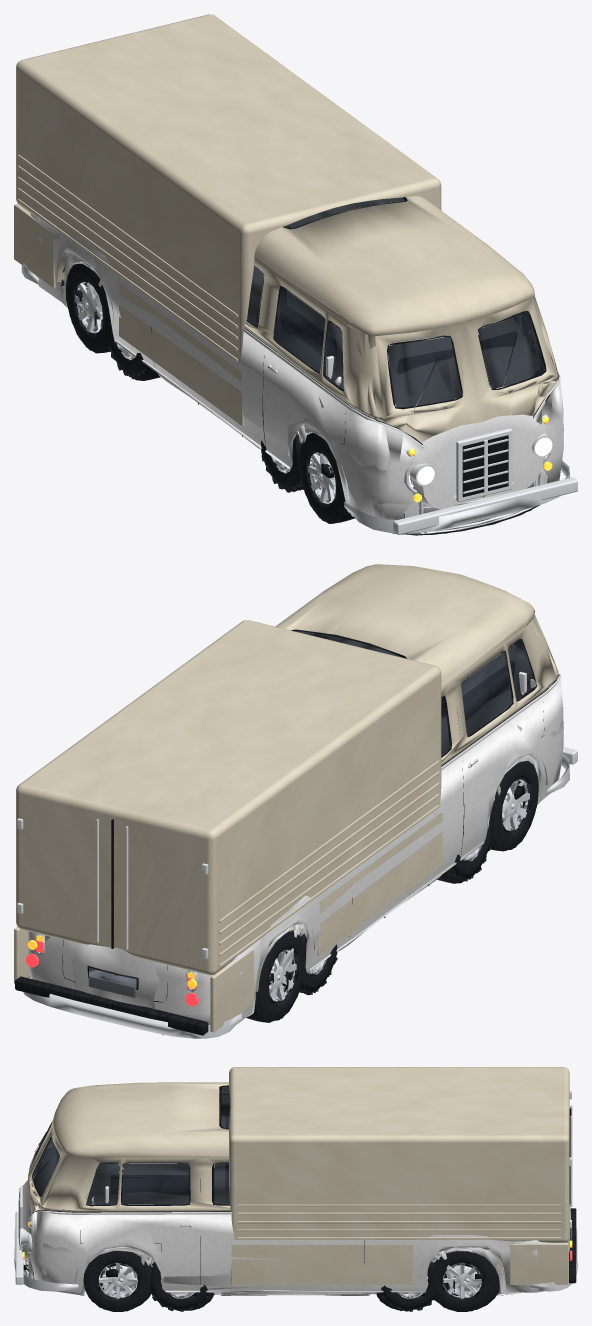
The model's file is vehicles_fleet_10models.glb.
3 views of the same model, one above another, from view 1: azimuth 30°, elevation 25°; view 2: azimuth 150°, elevation 25°; view 3: azimuth 270°, elevation 25° (orthographic). The views are drawn at different scales.
Parts seen in each view (by area): view 1: Chassis_Mesh.009, Chassis_Mesh.007, Wheel_FR (×2), Wheel_RR (×2), Chassis_Mesh.008; view 2: Chassis_Mesh.009, Chassis_Mesh.007, Wheel_RR (×3), Chassis_Mesh.008, Wheel_FR (×2); view 3: Chassis_Mesh.009, Chassis_Mesh.007, Wheel_FL (×3), Wheel_RL (×3), Chassis_Mesh.008, Chassis_Mesh.001, Chassis_Mesh.002.
Part boxes in pixels (x1,y1,x2,y2): Chassis_Mesh.009: [14, 14, 577, 534]; Chassis_Mesh.007: [21, 196, 569, 533]; Wheel_FR (×2): [261, 432, 354, 523]; Wheel_RR (×2): [66, 263, 145, 379]; Chassis_Mesh.008: [61, 252, 548, 535]; Chassis_Mesh.009: [14, 620, 577, 1035]; Chassis_Mesh.007: [23, 564, 569, 1038]; Wheel_RR (×3): [246, 931, 338, 1022]; Chassis_Mesh.008: [71, 755, 538, 1016]; Wheel_FR (×2): [452, 761, 538, 881]; Chassis_Mesh.009: [15, 1067, 576, 1284]; Chassis_Mesh.007: [14, 1082, 577, 1292]; Wheel_FL (×3): [83, 1251, 209, 1311]; Wheel_RL (×3): [378, 1251, 499, 1311]; Chassis_Mesh.008: [22, 1204, 571, 1295]; Chassis_Mesh.001: [219, 1292, 368, 1295]; Chassis_Mesh.002: [106, 1251, 482, 1291].
Bounding box in the file's own units: 1.94 × 2.16 × 6.26.
17 materials, 8 textured.
